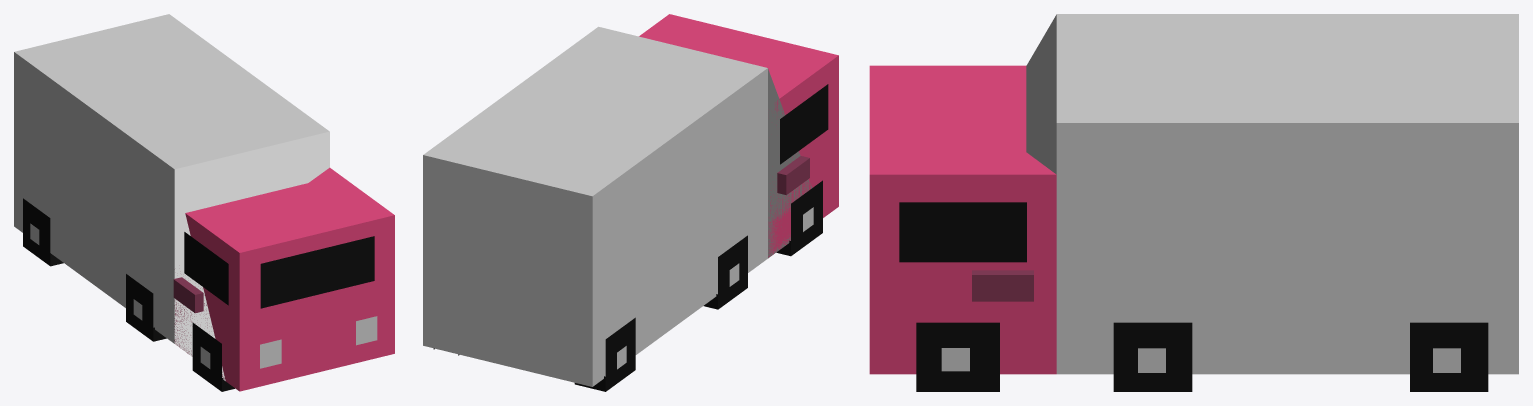
File: car3.fbx
3 renders of one model, left to right at view 1: azimuth 30°, elevation 25°; view 2: azimuth 150°, elevation 25°; view 3: azimuth 270°, elevation 25°, orthographic. The views are drawn at different scales.
Parts seen in each view (by area): view 1: Cube.040; view 2: Cube.040; view 3: Cube.040.
Part boxes in pixels (x1,y1,x2,y2): Cube.040: (14, 14, 394, 391); Cube.040: (423, 14, 838, 391); Cube.040: (869, 14, 1518, 391).
Bounding box in the file's own units: 465 × 481 × 1059.
